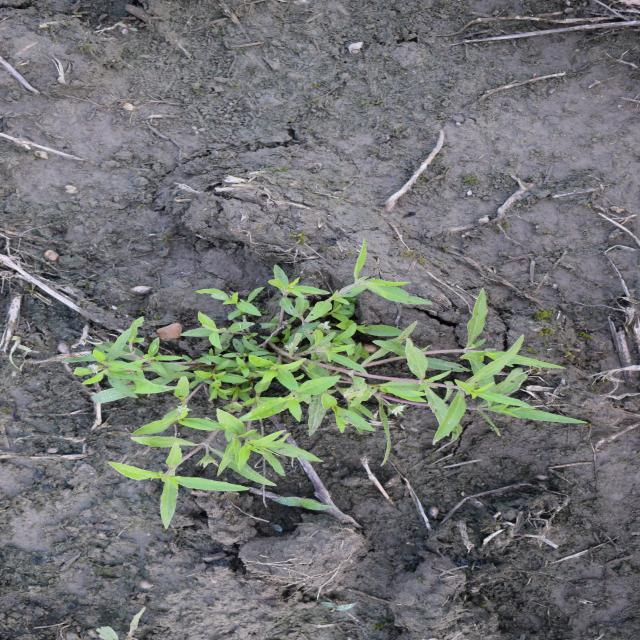Eclipta: (60, 237, 591, 533)
